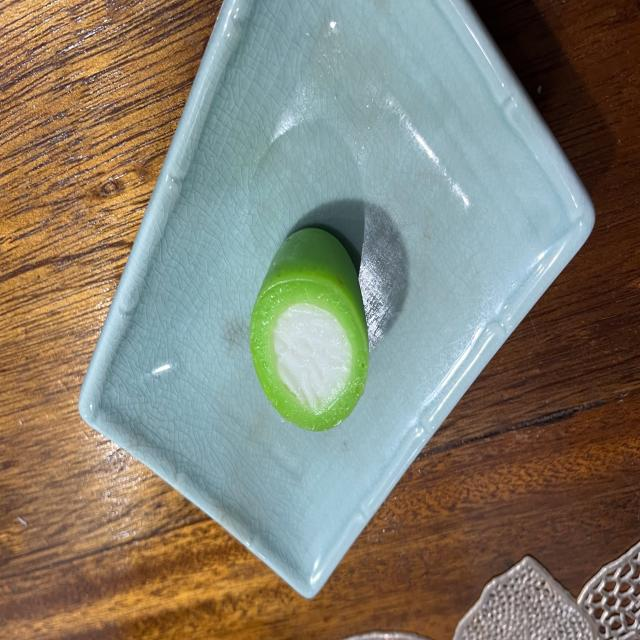nona-manis: (250, 229, 369, 431)
